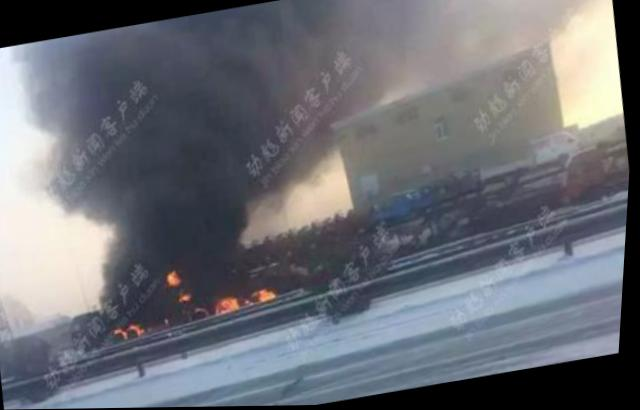fire: (210, 283, 281, 315), (160, 264, 199, 307), (110, 314, 150, 341)
